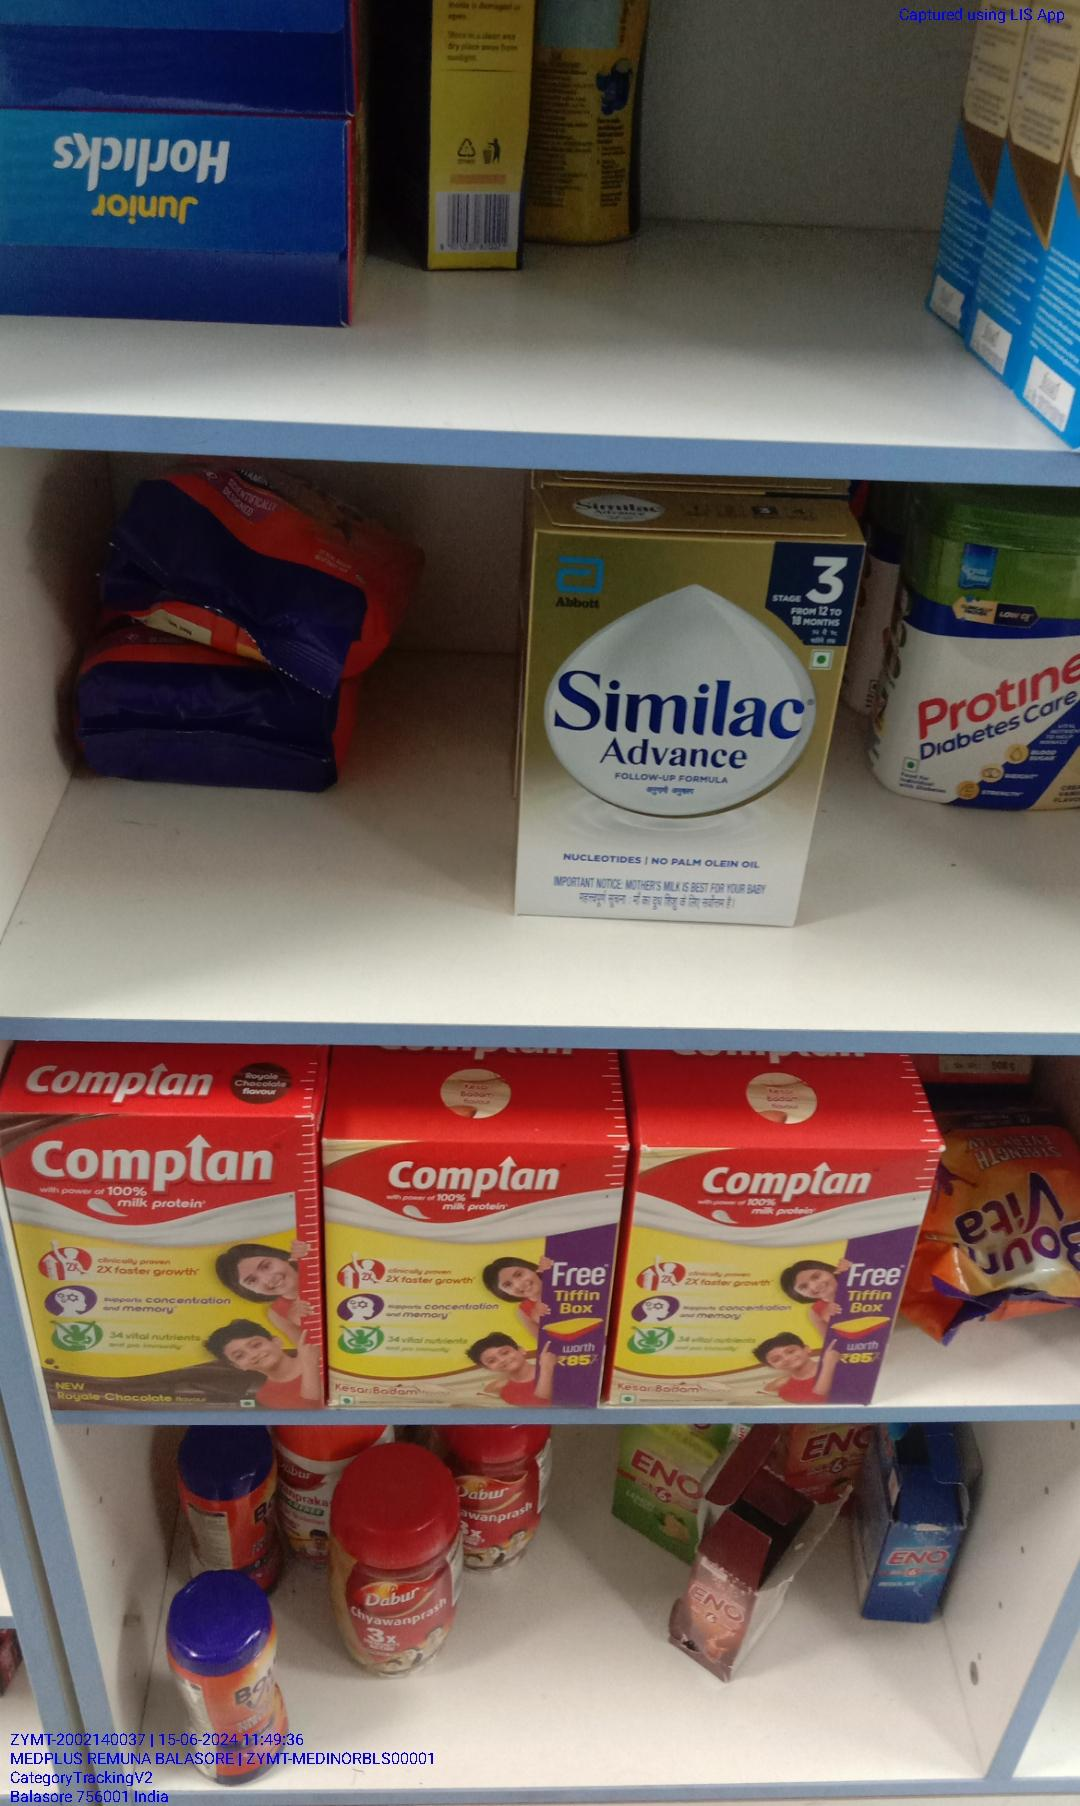COMPLAN_CHOCOLATE_500_GMS_PACK: (1, 1107, 320, 1411)
COMPLAN_KESAR_BADAM_500_GMS_PACK: (329, 1134, 599, 1409), (627, 1143, 886, 1405)
